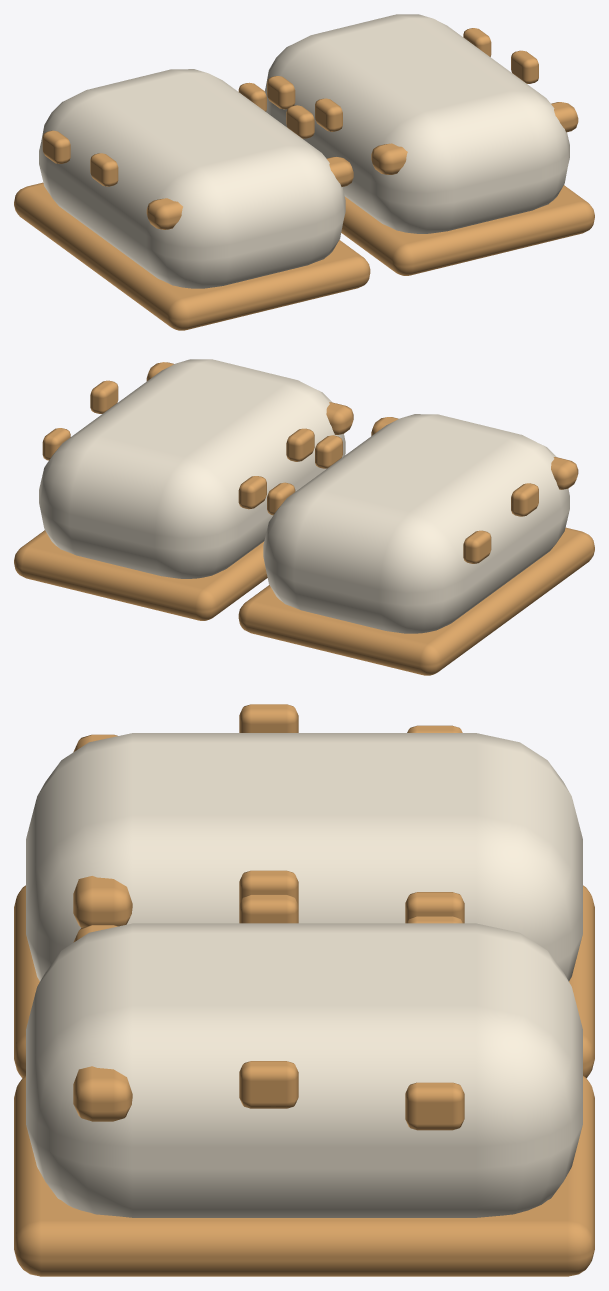
Rendered from kimono_sandals.glb.
The picture shows the model from 3 angles, top to bottom: view 1: azimuth 30°, elevation 25°; view 2: azimuth 150°, elevation 25°; view 3: azimuth 270°, elevation 25°; orthographic projection. The views are drawn at different scales.
Parts seen in each view (by area): view 1: kimono_sandals_LegL, kimono_sandals_LegR; view 2: kimono_sandals_LegL, kimono_sandals_LegR; view 3: kimono_sandals_LegR, kimono_sandals_LegL.
Boxes of the visible parts, <box> form: kimono_sandals_LegL: <box>14,69,370,330</box>; kimono_sandals_LegR: <box>264,14,594,275</box>; kimono_sandals_LegL: <box>238,414,594,675</box>; kimono_sandals_LegR: <box>14,359,353,620</box>; kimono_sandals_LegR: <box>14,894,594,1276</box>; kimono_sandals_LegL: <box>14,704,594,1077</box>.
Bounding box in the file's own units: 0.37 × 0.1075 × 0.245.
